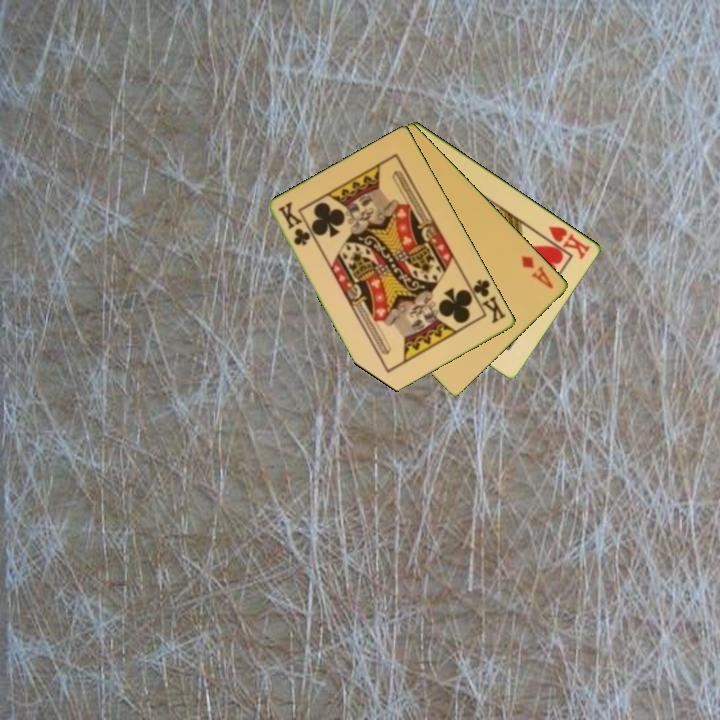Ad: (518, 252, 557, 292)
Kc: (465, 275, 509, 327), (275, 199, 314, 249)
Kh: (538, 222, 593, 263)
